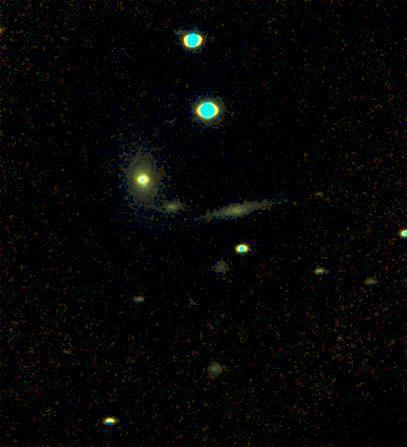star: (280, 190, 310, 220)
